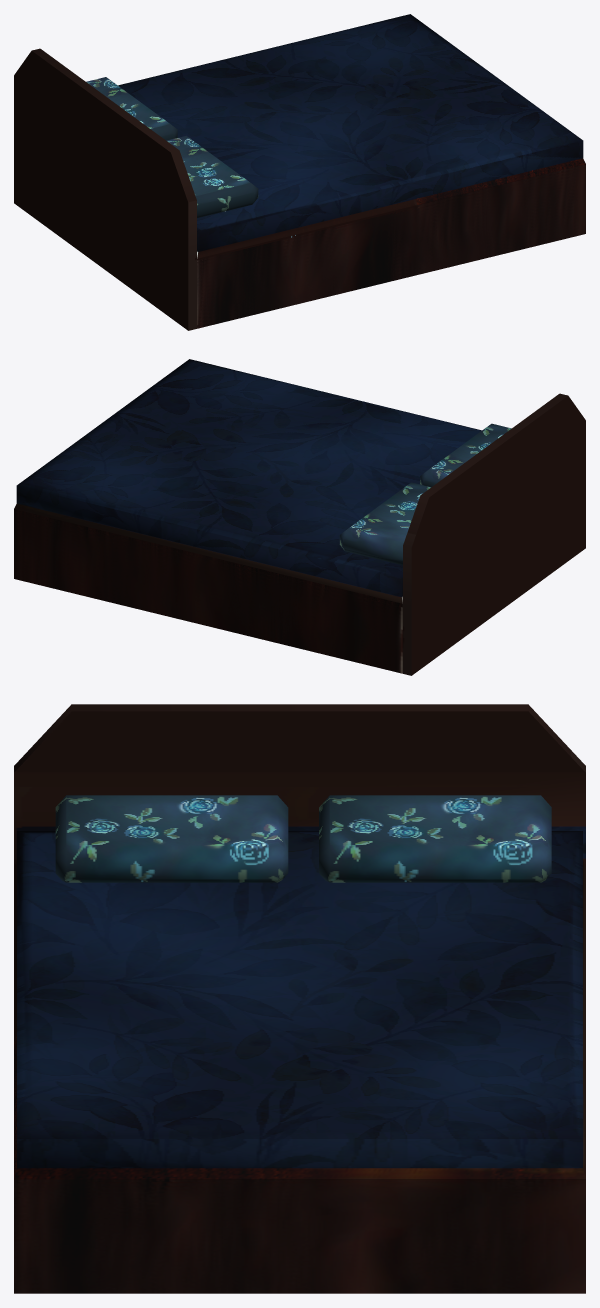
File: Bed.fbx
3 views of the same model, one above another, from view 1: azimuth 30°, elevation 25°; view 2: azimuth 150°, elevation 25°; view 3: azimuth 270°, elevation 25° (orthographic). The views are drawn at different scales.
Parts seen in each view (by area): view 1: BedroomRoom_Bed; view 2: BedroomRoom_Bed; view 3: BedroomRoom_Bed.
Part boxes in pixels (box(x1,y1,x2,y2)): BedroomRoom_Bed: box(14, 14, 585, 330); BedroomRoom_Bed: box(14, 359, 585, 675); BedroomRoom_Bed: box(14, 704, 585, 1293).
Size of the model in its own units: 223 by 88.66 by 169.
Materials: 1 (1 with a texture image).
